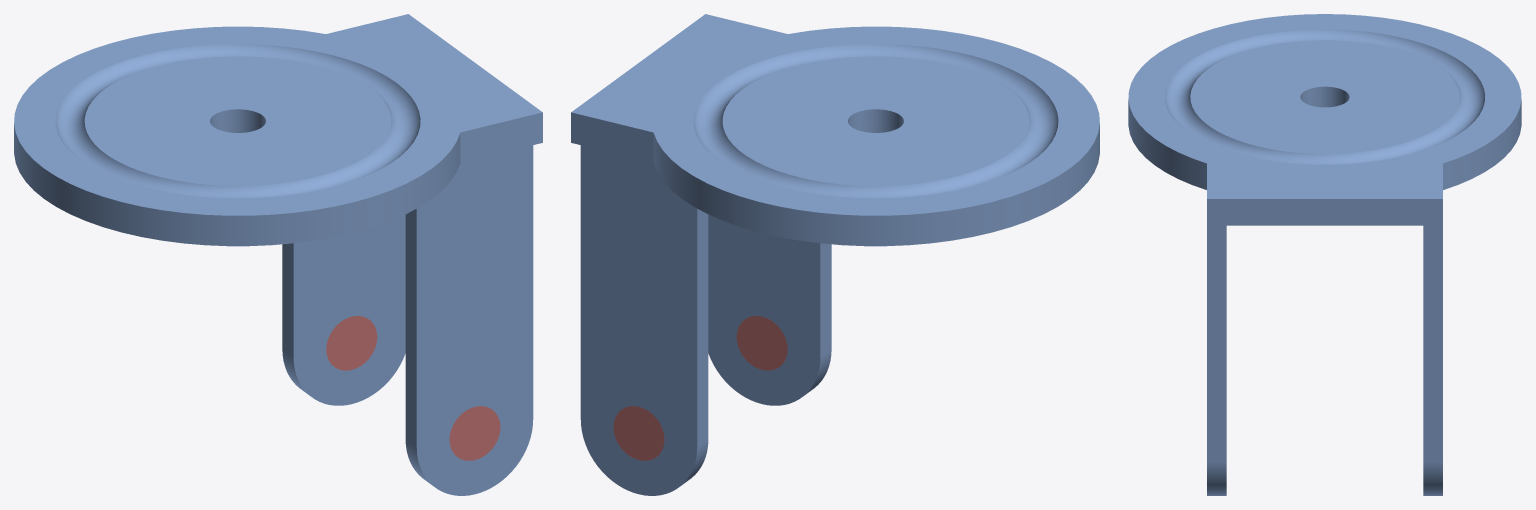
Rendered from step_07.glb.
3 views of the same model, side by side, from view 1: azimuth 30°, elevation 25°; view 2: azimuth 150°, elevation 25°; view 3: azimuth 270°, elevation 25° (orthographic). The views are drawn at different scales.
Parts seen in each view (by area): view 1: part__fork, removed__fork; view 2: part__fork, removed__fork; view 3: part__fork.
Part boxes in pixels (x1=…): part__fork: x1=14, y1=14, x2=542, y2=495; removed__fork: x1=326, y1=316, x2=500, y2=460; part__fork: x1=571, y1=14, x2=1099, y2=495; removed__fork: x1=613, y1=316, x2=787, y2=460; part__fork: x1=1128, y1=14, x2=1521, y2=495.
Size of the model in its own units: 89 by 72 by 79.97.
